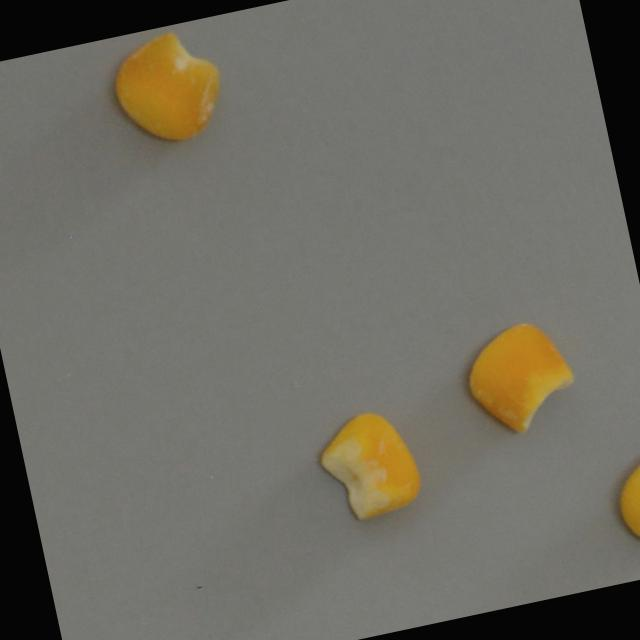dañado: (97, 17, 239, 157), (452, 310, 590, 449), (602, 447, 640, 558)
punto_negro: (307, 400, 429, 530)
